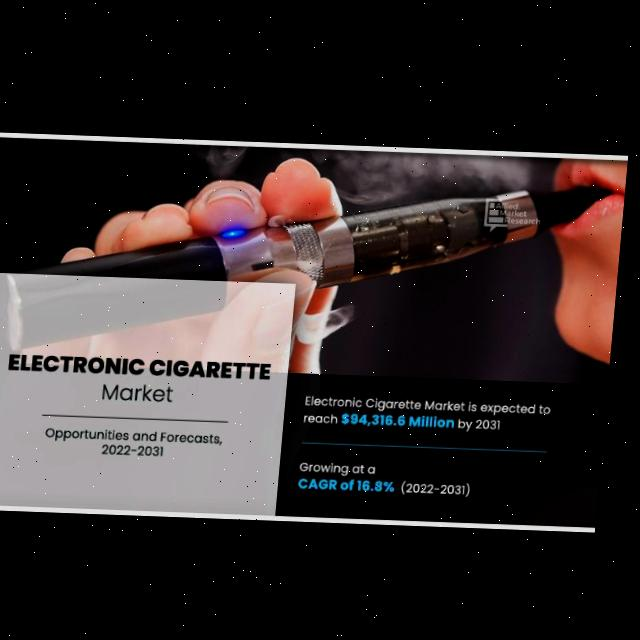vape: (8, 161, 616, 366)
